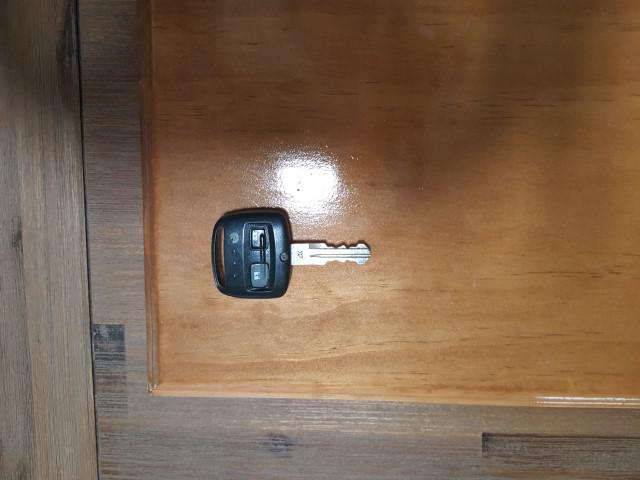key: (210, 214, 370, 370)
